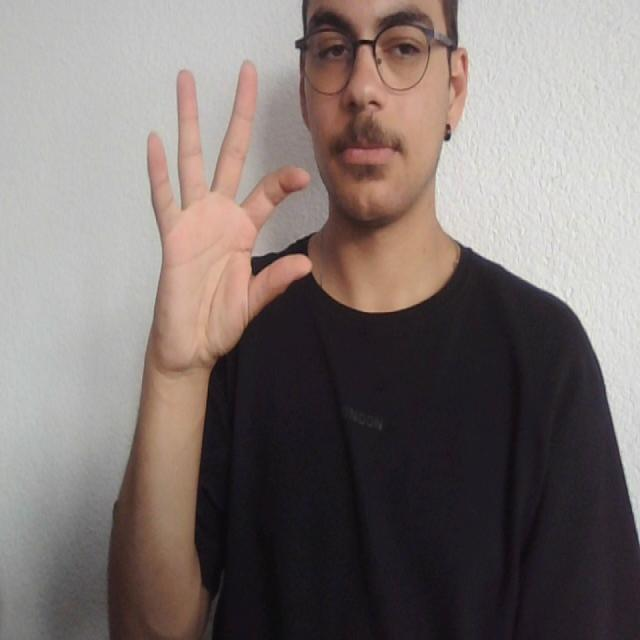Tuvalet: (130, 29, 362, 378)
